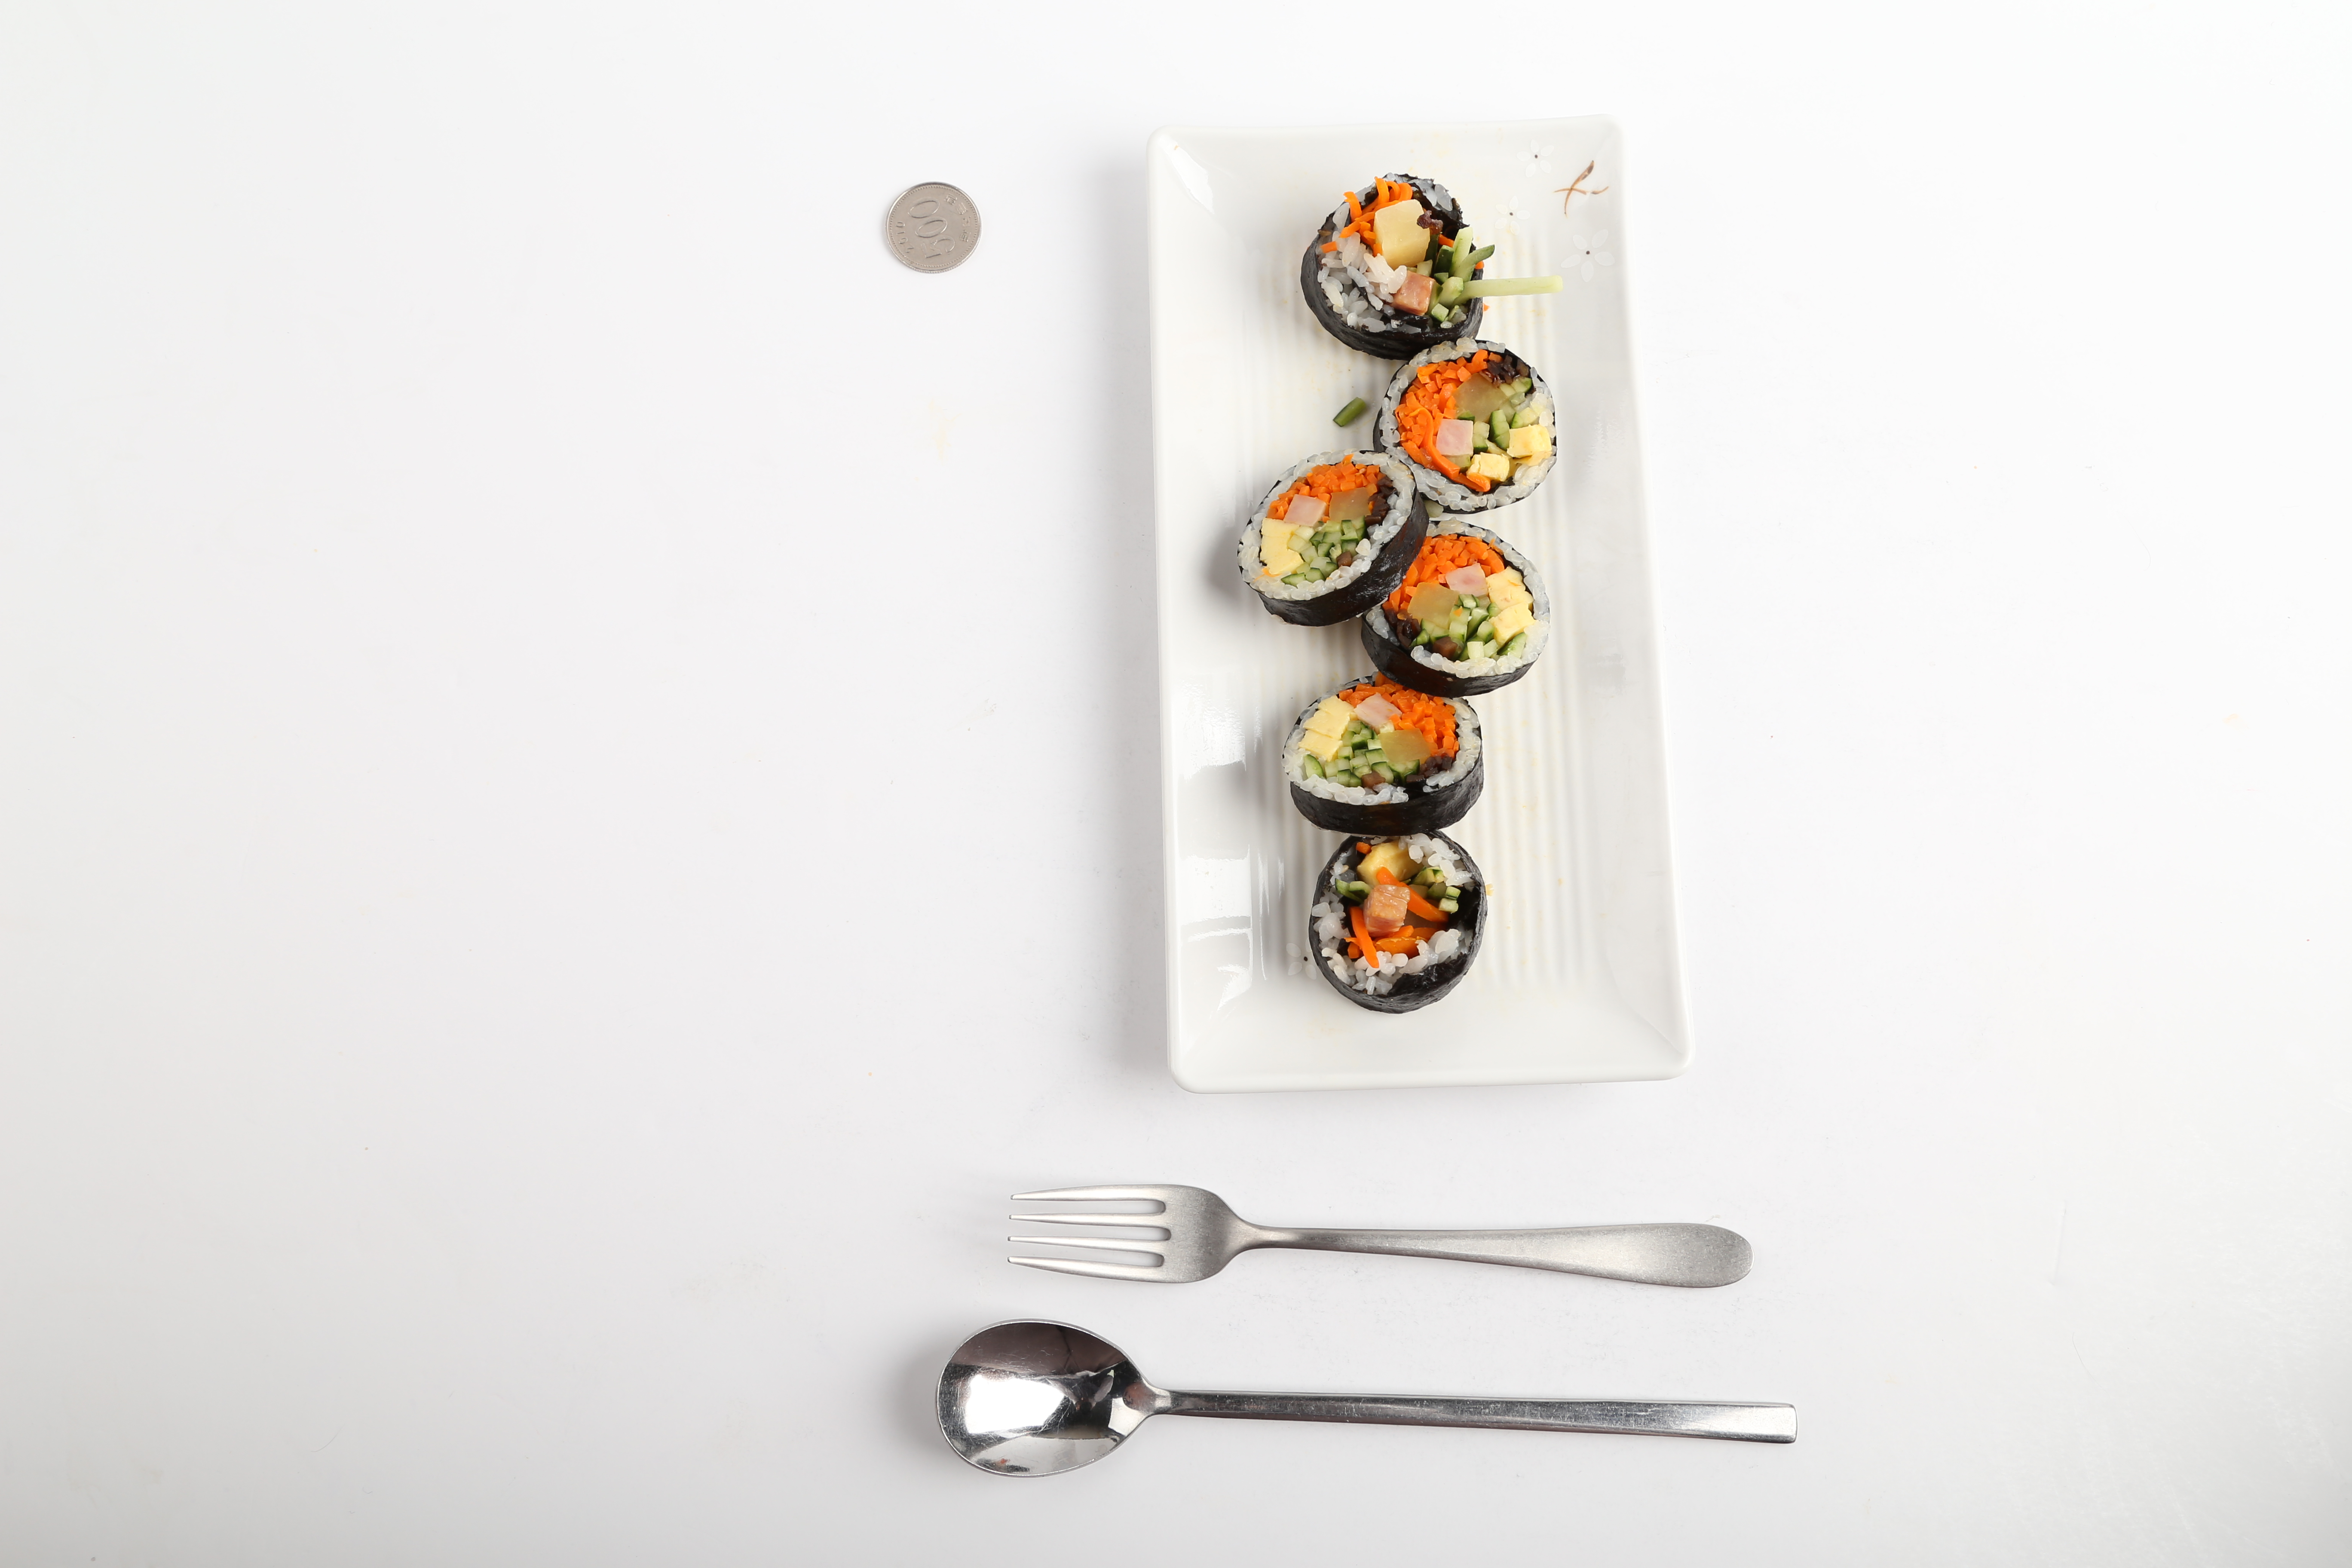dish: (1148, 101, 1694, 1090)
ref_coin: (875, 173, 985, 276)
ref_fork: (999, 1185, 1298, 1284)
ref_spoon: (931, 1311, 1216, 1482)
김밥: (1230, 170, 1561, 1018)
